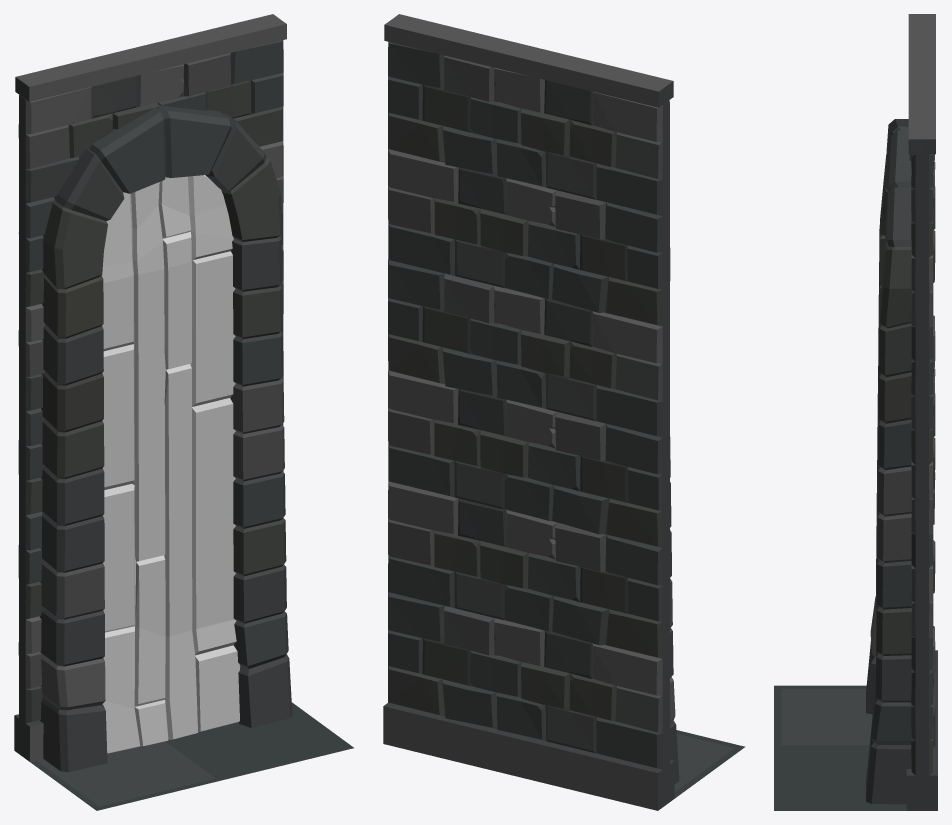
Rendered from Dungeon_Tilemap_Door_Closed.fbx.
The picture shows the model from 3 angles, left to right: view 1: azimuth 30°, elevation 25°; view 2: azimuth 150°, elevation 25°; view 3: azimuth 270°, elevation 25°; orthographic projection. The views are drawn at different scales.
Visible parts, largest first — view 1: Dungeon_Tilemap_Door_Closed; view 2: Dungeon_Tilemap_Door_Closed; view 3: Dungeon_Tilemap_Door_Closed.
Part boxes in pixels (box(x1,y1,x2,y2)): Dungeon_Tilemap_Door_Closed: box(14, 14, 353, 810); Dungeon_Tilemap_Door_Closed: box(383, 14, 745, 810); Dungeon_Tilemap_Door_Closed: box(774, 14, 937, 810).
Bounding box in the file's own units: 100 × 250 × 55.28.
